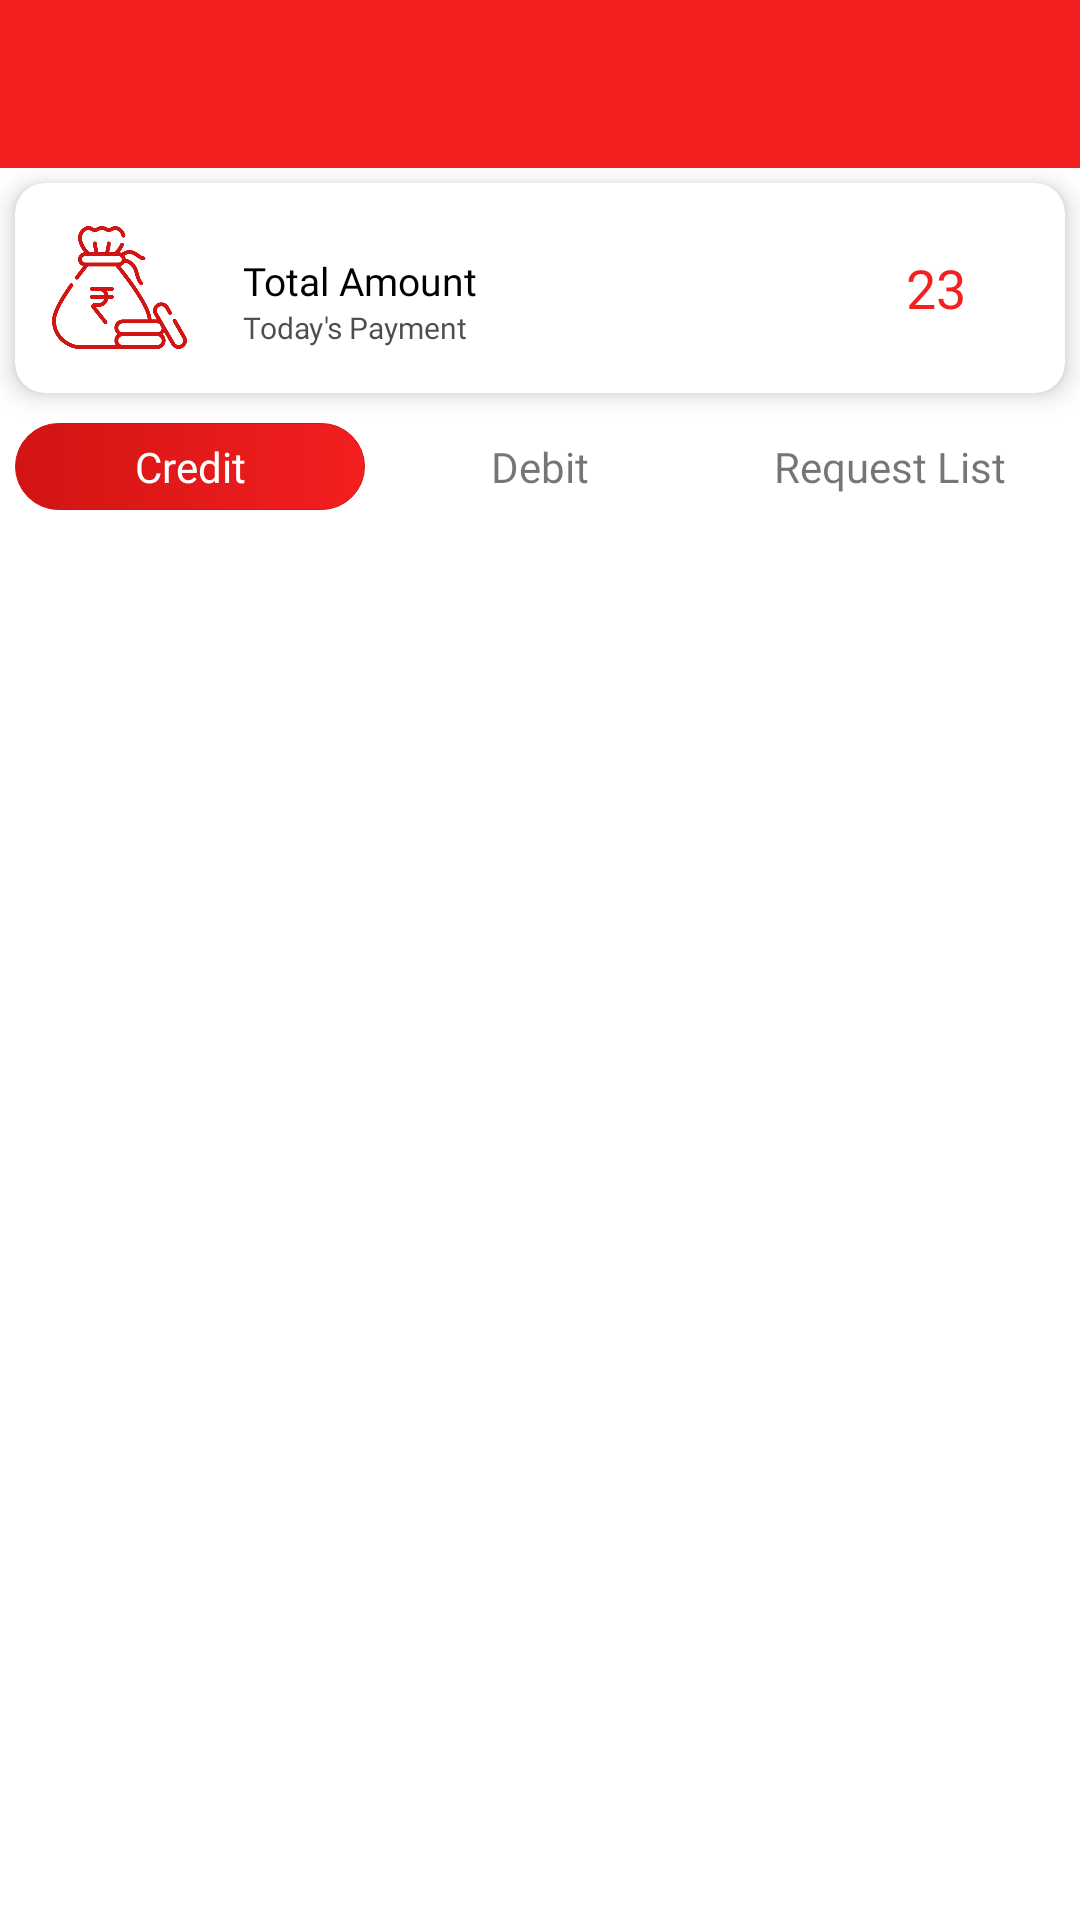

Point at icon controls on the screen. Image size 1080px x 1920px, points as point (x, y).
totalcollection: point (119, 287)
